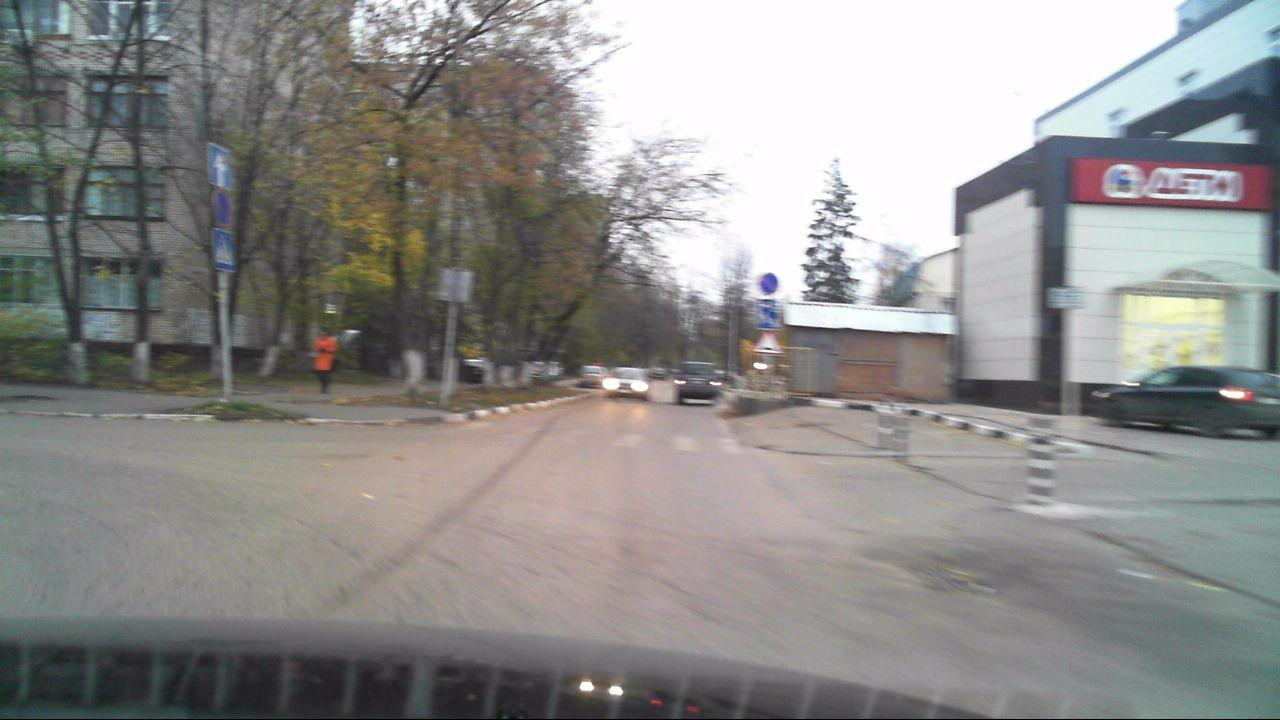1_17: (755, 330, 785, 356)
3_28: (211, 191, 232, 229), (759, 271, 779, 295)
5_19_1: (213, 233, 238, 271)
5_21: (757, 298, 777, 328)
5_5: (204, 142, 236, 187)
